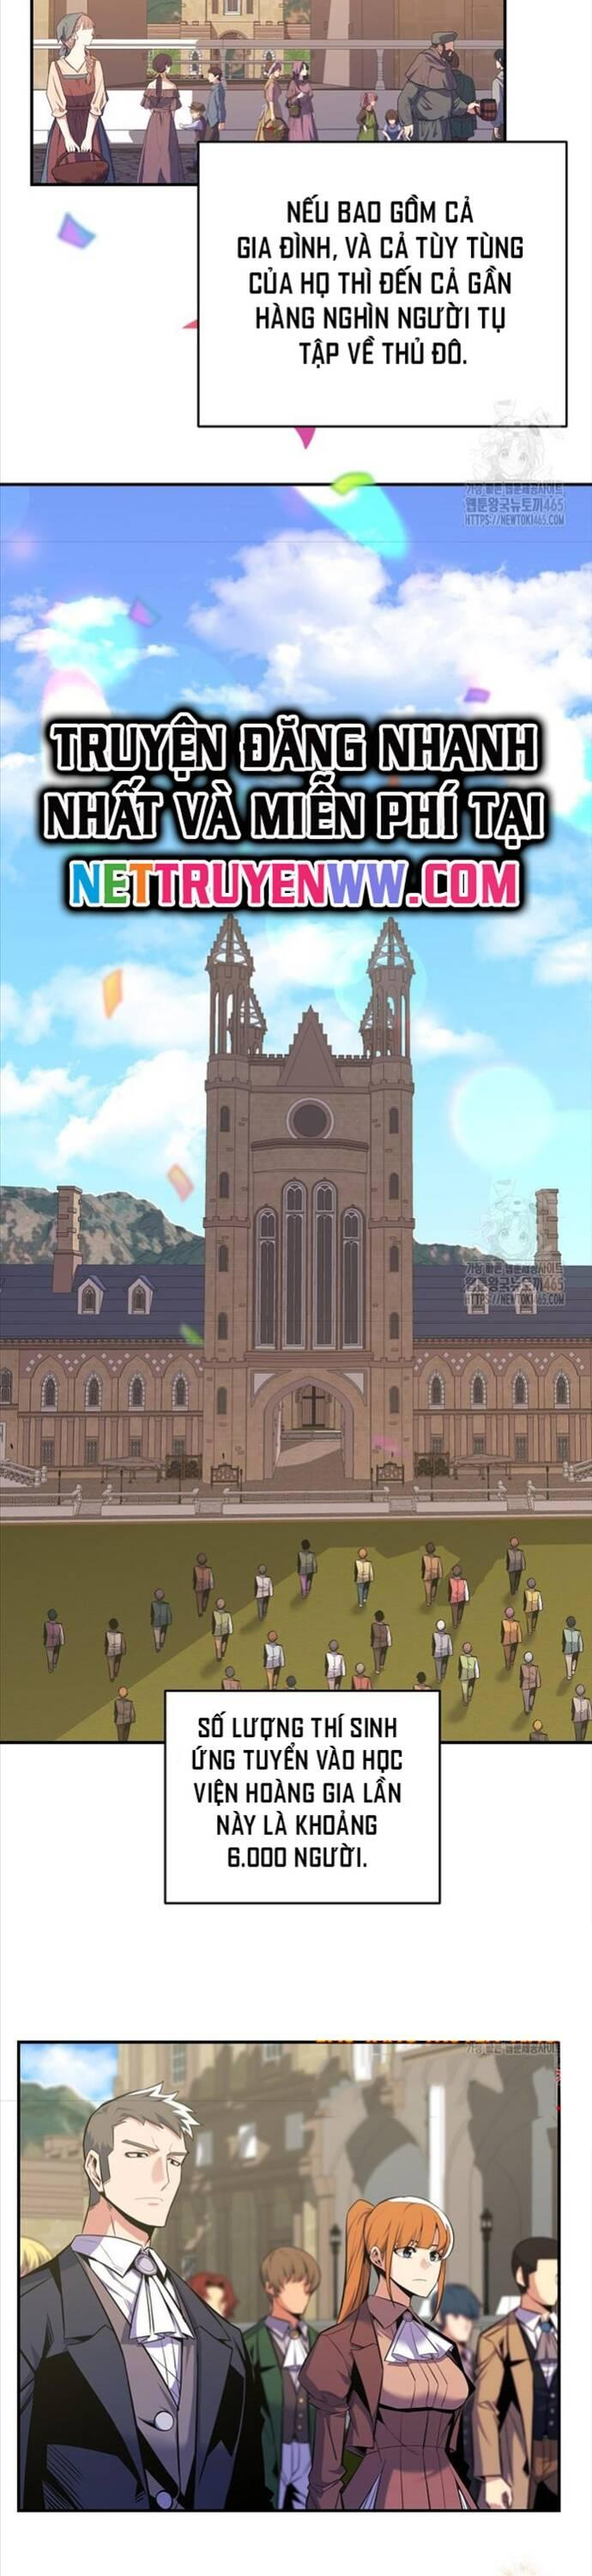quangcao: (26, 687, 566, 931)
